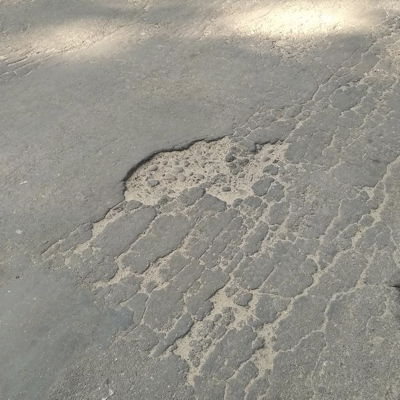pothole: (119, 134, 292, 211)
